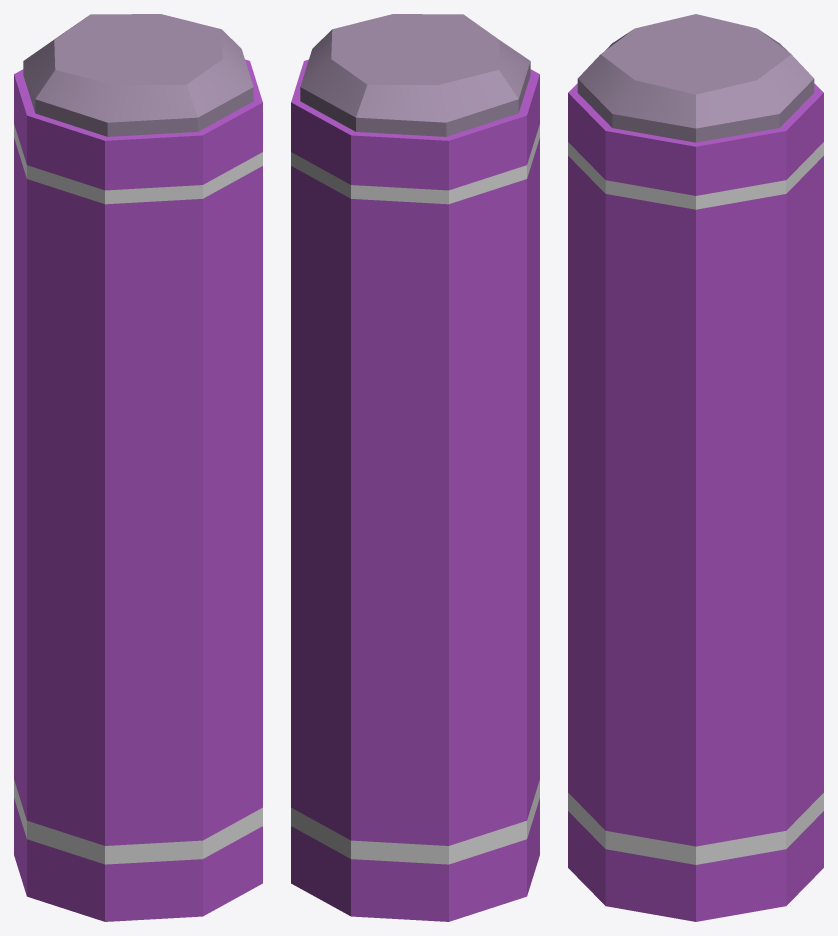
The model's file is mentosALL.fbx.
3 views of the same model, side by side, from view 1: azimuth 30°, elevation 25°; view 2: azimuth 150°, elevation 25°; view 3: azimuth 270°, elevation 25° (orthographic).
Parts seen in each view (by area): view 1: pPipe1, pCylinder4; view 2: pPipe1, pCylinder4; view 3: pPipe1, pCylinder4.
Boxes of the visible parts, <box> form: pPipe1: <box>14,59,262,921</box>; pCylinder4: <box>23,14,253,136</box>; pPipe1: <box>291,59,539,921</box>; pCylinder4: <box>300,14,530,136</box>; pPipe1: <box>568,83,823,921</box>; pCylinder4: <box>577,14,814,142</box>.
Size of the model in its own units: 2 by 7.02 by 2.
